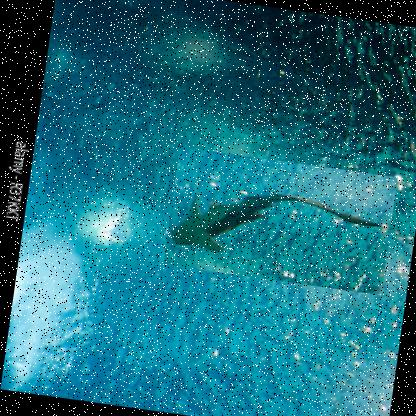zebra_shark: (160, 146, 396, 296)
